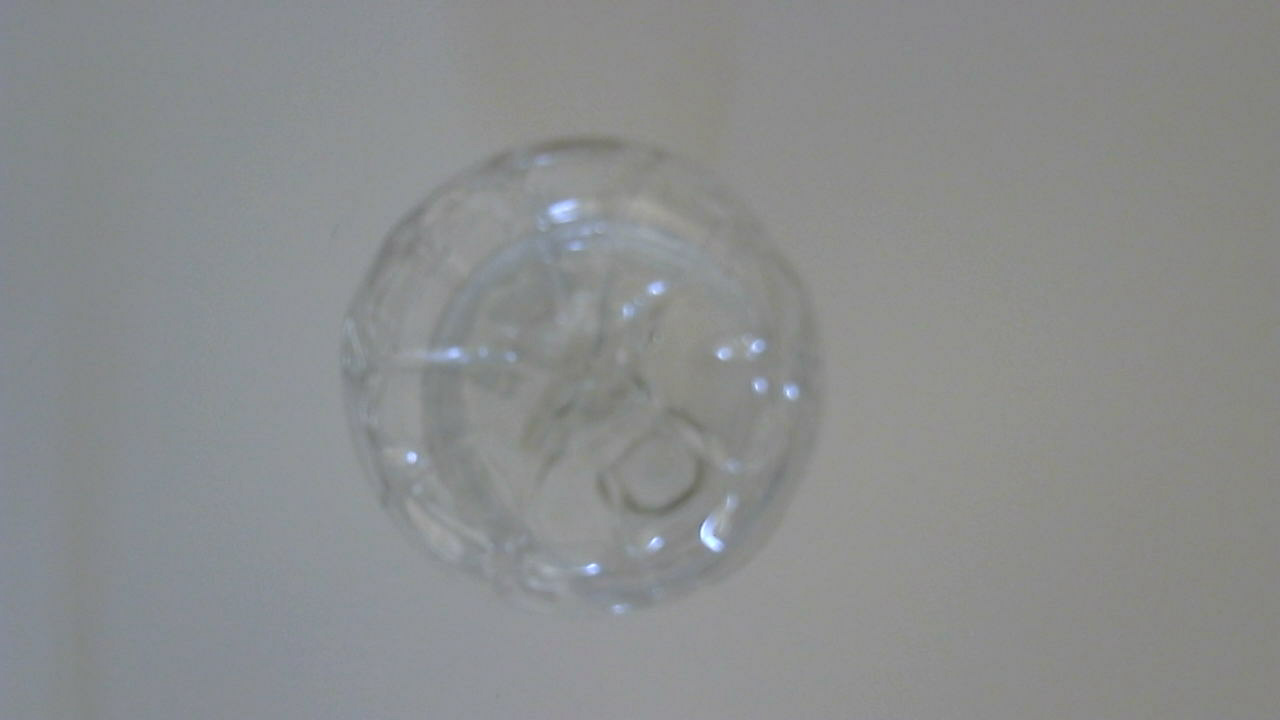Plastic Bottle: (334, 137, 830, 633)
